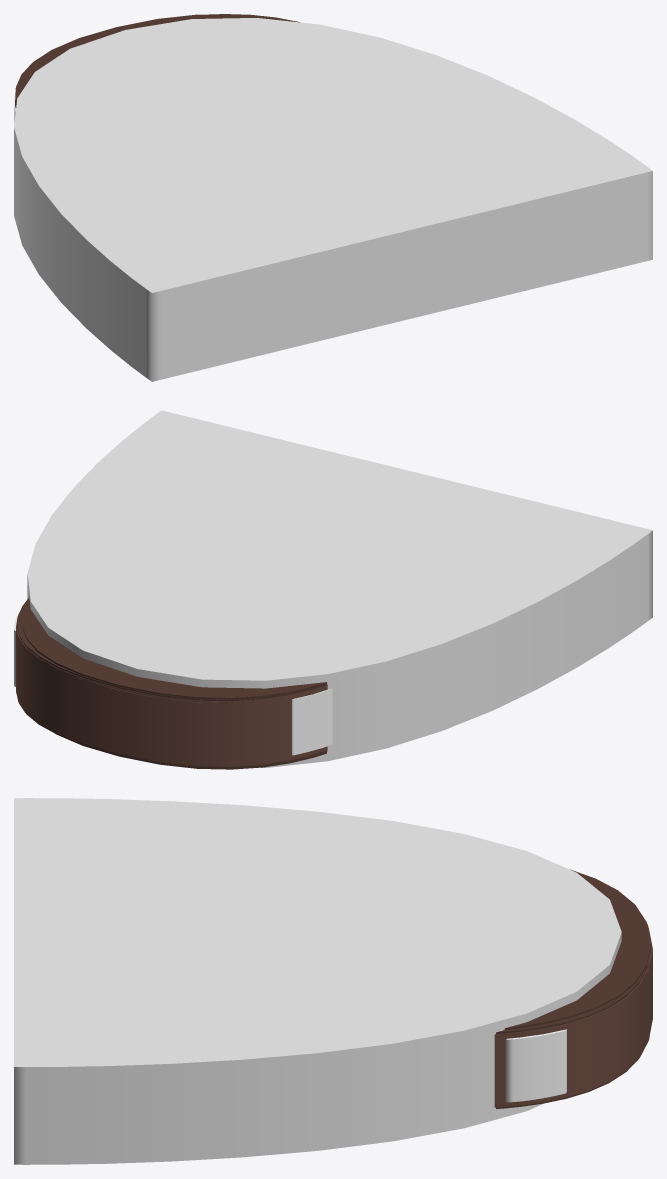
File: emoji_u1f470_1f3fd_200d_2640.glb
3 views of the same model, one above another, from view 1: azimuth 30°, elevation 25°; view 2: azimuth 150°, elevation 25°; view 3: azimuth 270°, elevation 25° (orthographic). The views are drawn at different scales.
Parts seen in each view (by area): view 1: emoji_u1f470_1f3fd_200d_2640; view 2: emoji_u1f470_1f3fd_200d_2640; view 3: emoji_u1f470_1f3fd_200d_2640.
Boxes of the visible parts, x1,y1,x2,y2 form: emoji_u1f470_1f3fd_200d_2640: (14, 14, 652, 381); emoji_u1f470_1f3fd_200d_2640: (14, 410, 652, 769); emoji_u1f470_1f3fd_200d_2640: (14, 798, 652, 1164).
Size of the model in its own units: 0.0331 by 0.0056 by 0.0332.
